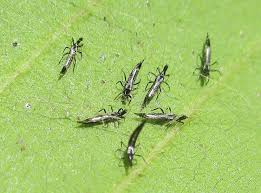Phlaeothripidae: (116, 118, 150, 168), (194, 31, 221, 84), (115, 57, 146, 100), (76, 103, 128, 128), (142, 62, 171, 103), (58, 36, 85, 76), (134, 107, 190, 124)
